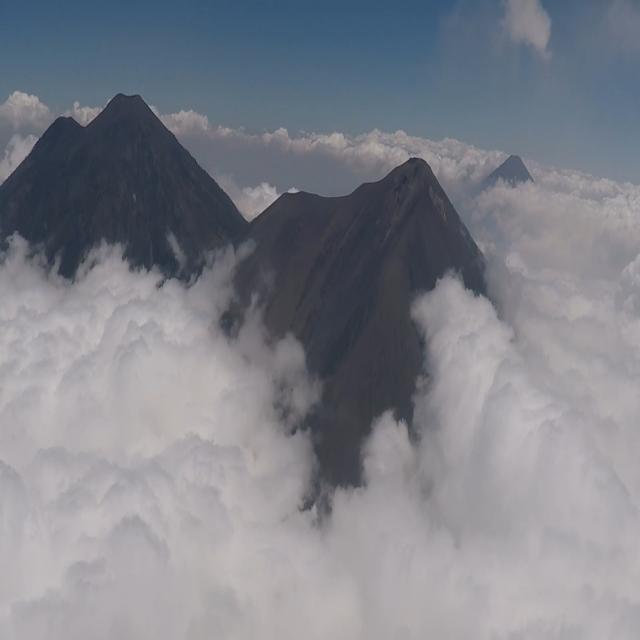Plume: (495, 0, 558, 58)
Summit: (345, 152, 470, 232)
